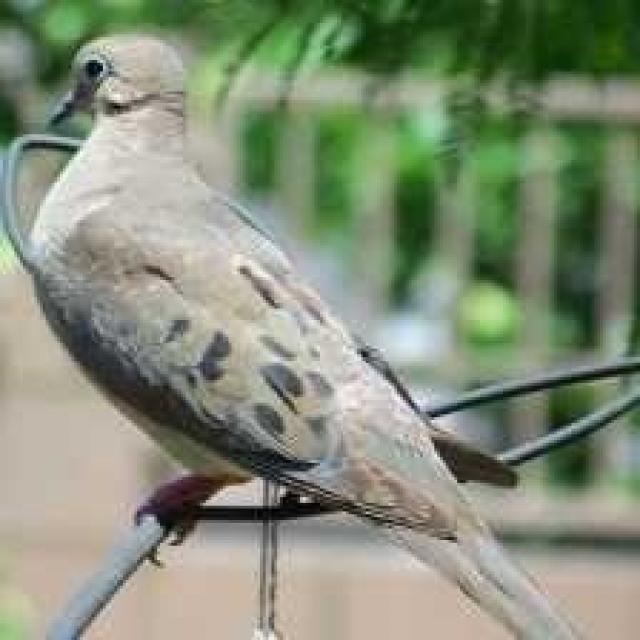bird: (21, 33, 608, 640)
